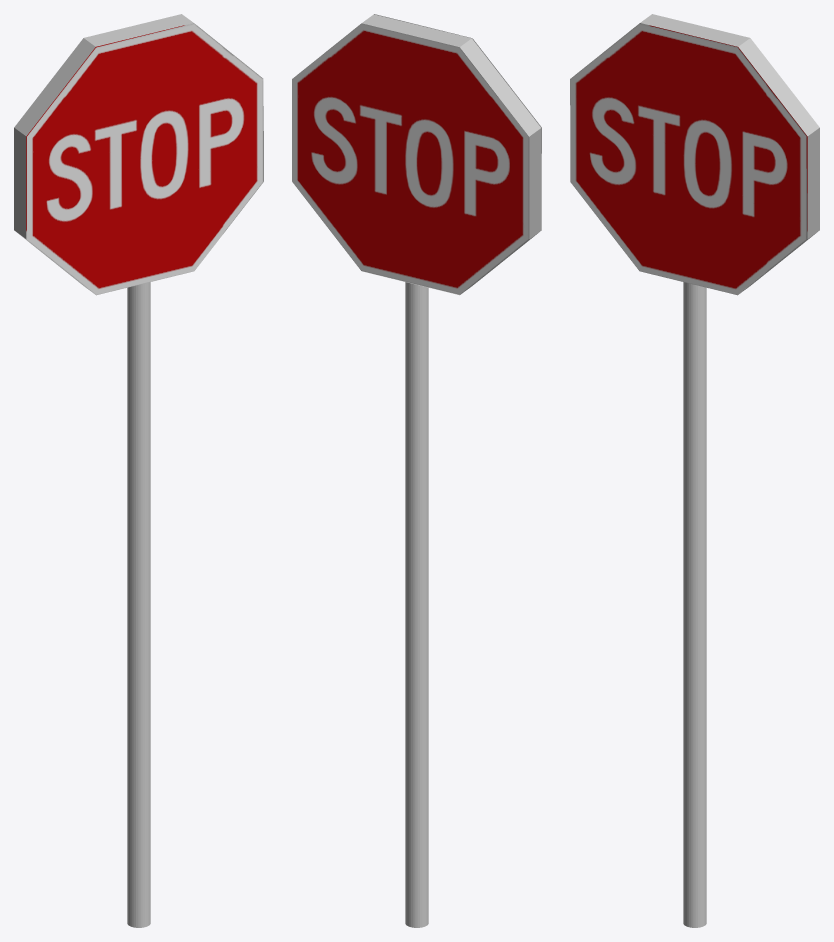
File: stop_sign.dae
The picture shows the model from 3 angles, left to right: view 1: azimuth 30°, elevation 25°; view 2: azimuth 150°, elevation 25°; view 3: azimuth 330°, elevation 25°; orthographic projection.
Parts seen in each view (by area): view 1: Cylinder_001, Cylinder; view 2: Cylinder_001, Cylinder; view 3: Cylinder_001, Cylinder.
Part boxes in pixels (x1,y1,x2,y2): Cylinder_001: [14, 14, 263, 295]; Cylinder: [127, 282, 150, 927]; Cylinder_001: [292, 14, 541, 295]; Cylinder: [405, 282, 428, 927]; Cylinder_001: [570, 14, 819, 295]; Cylinder: [683, 282, 706, 927].
Size of the model in its own units: 0.9239 by 0.0857 by 3.32.
Materials: 1 (1 with a texture image).
